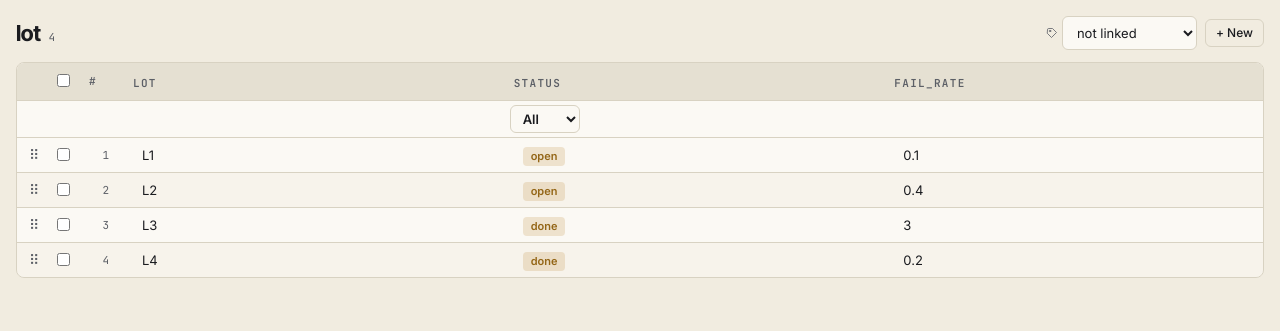
Test case: a table on no marking keeps its multi-select › putting the view on a marking drops a batch selection made before it
Click the checkbox named "select 1".
click(64, 154)  # box [57,148,70,161]
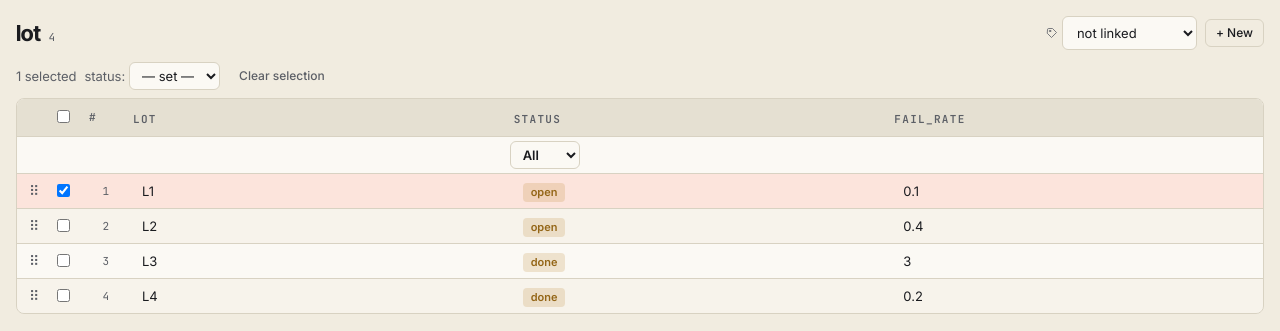
Now the element named "batch actions" is shown, box [16,62,336,90]
Select "fail" in the dropdown named "marking" at (1129, 33), box [1062,16,1197,50]
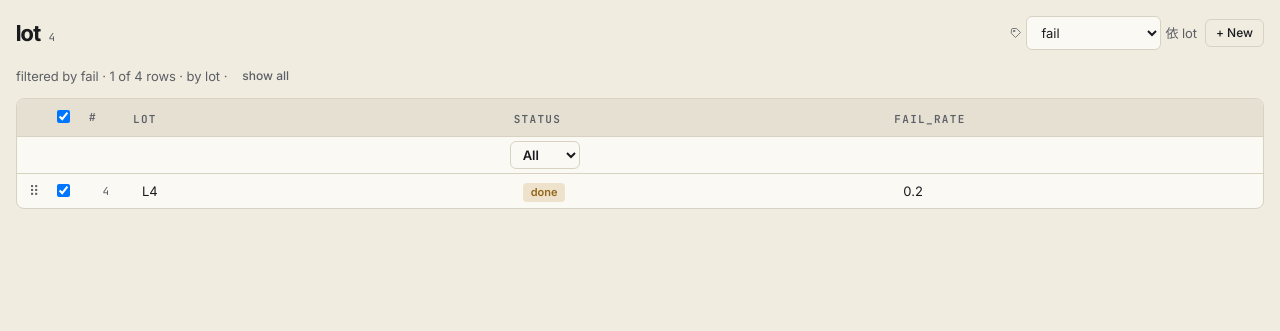
Select "not linked" in the dropdown named "marking" at (1094, 33), box [1026,16,1161,50]
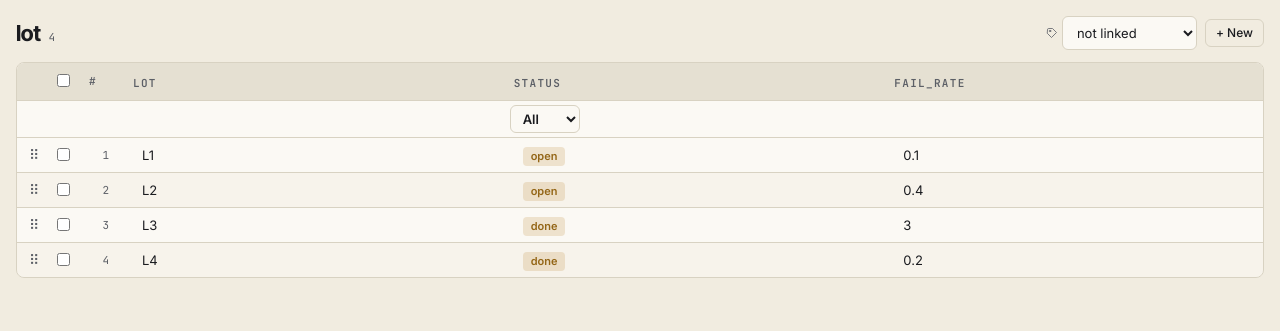
Now the checkbox named "select 1" is not checked, box [57,148,70,161]
